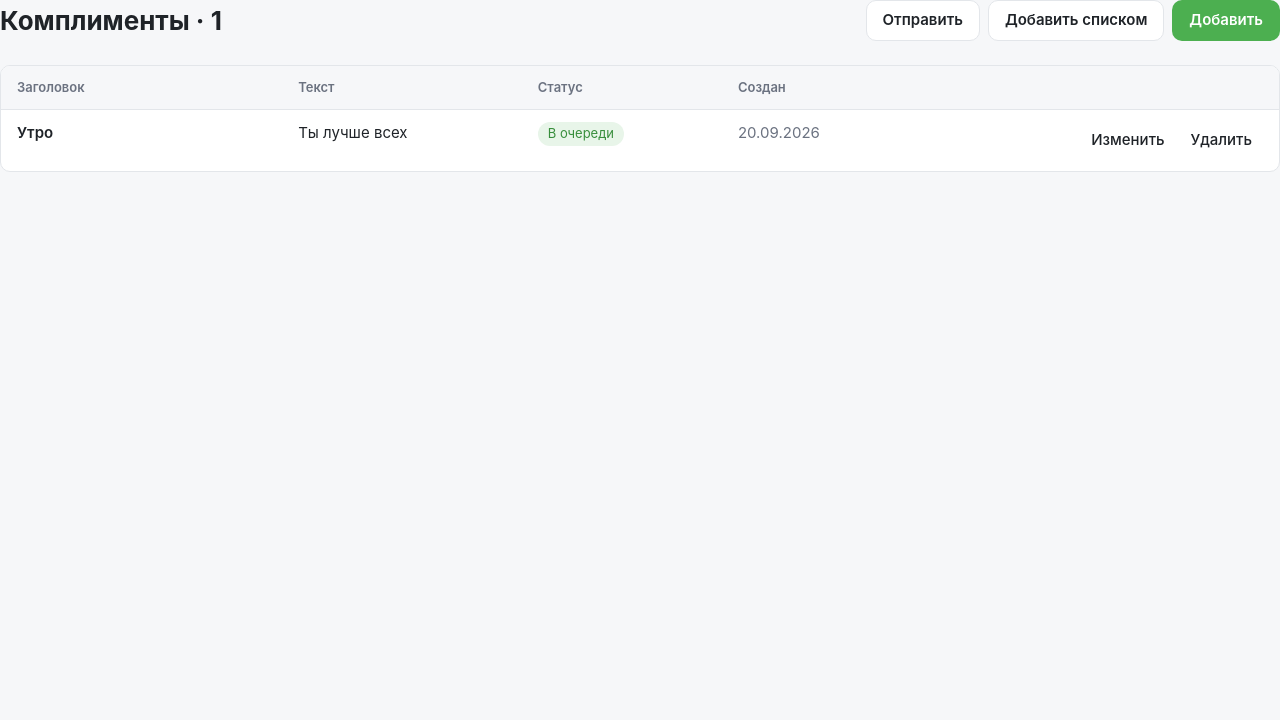
ComplimentsPage: отправка одного комплимента › без активных подписчиков предлагает создать ссылку
The image size is (1280, 720).
Expected: the heading "Комплименты · 1" is shown, left=0, top=1, right=222, bottom=40
Click the button "Отправить" at (923, 20), box left=866, top=0, right=980, bottom=40
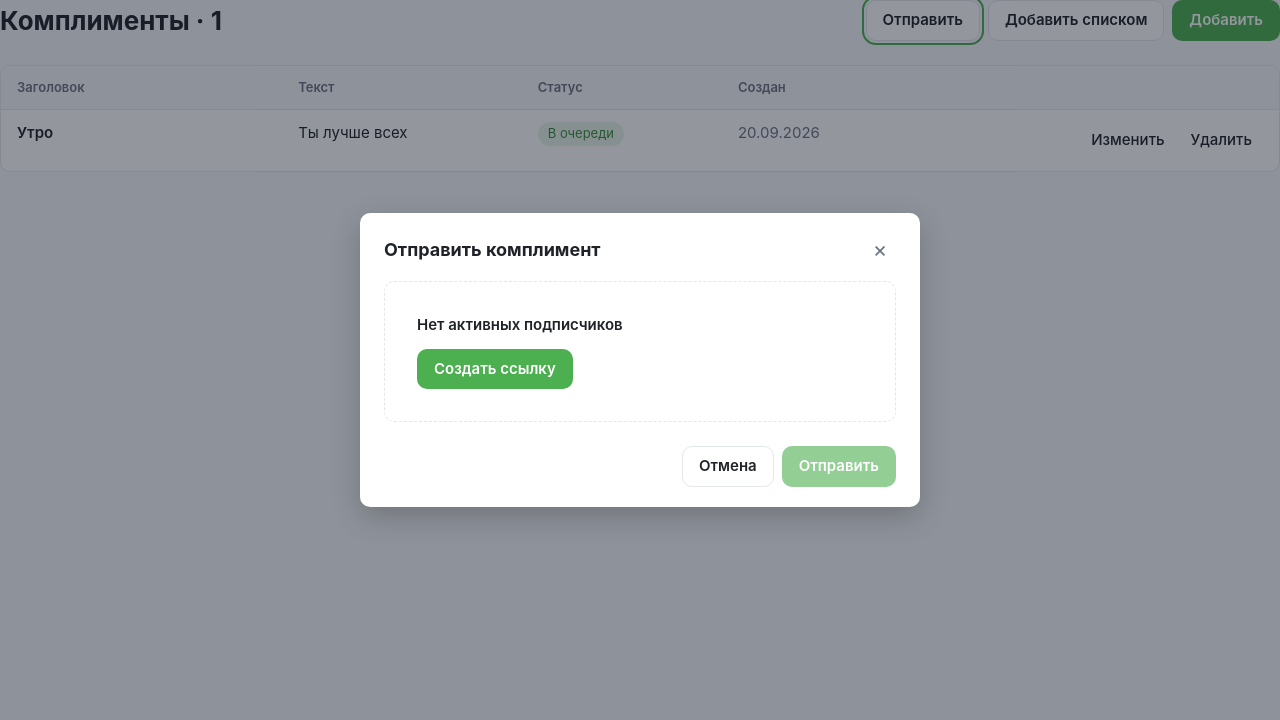
Expected: the text "Нет активных подписчиков" is shown, left=417, top=314, right=623, bottom=337
Expected: the button "Отправить" is disabled, left=782, top=446, right=896, bottom=487
